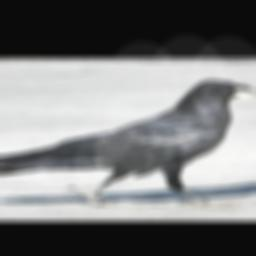Crow: (0, 80, 256, 208)
